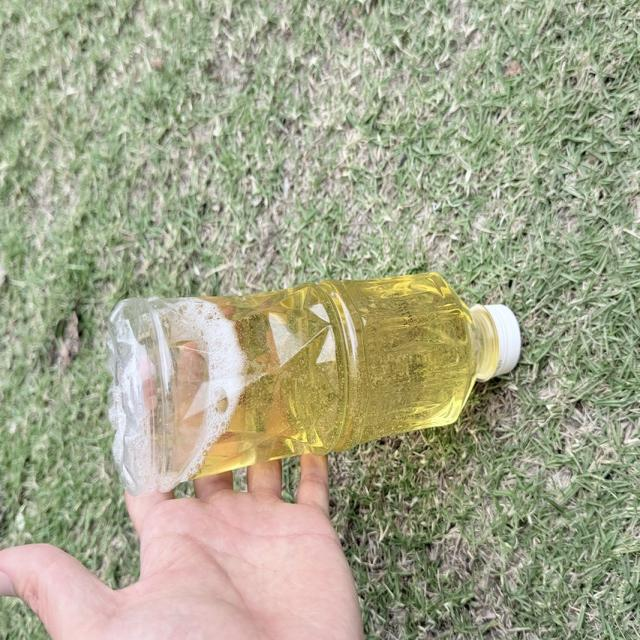high: (107, 273, 521, 493)
